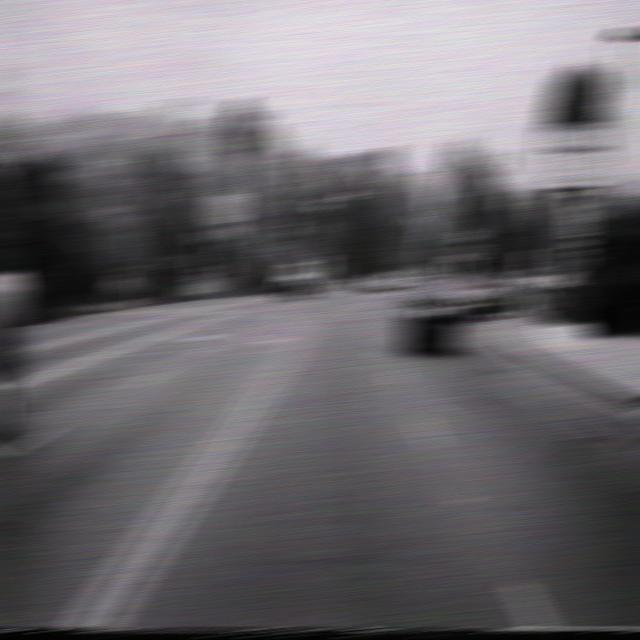speedLimit35: (564, 202, 592, 238)
